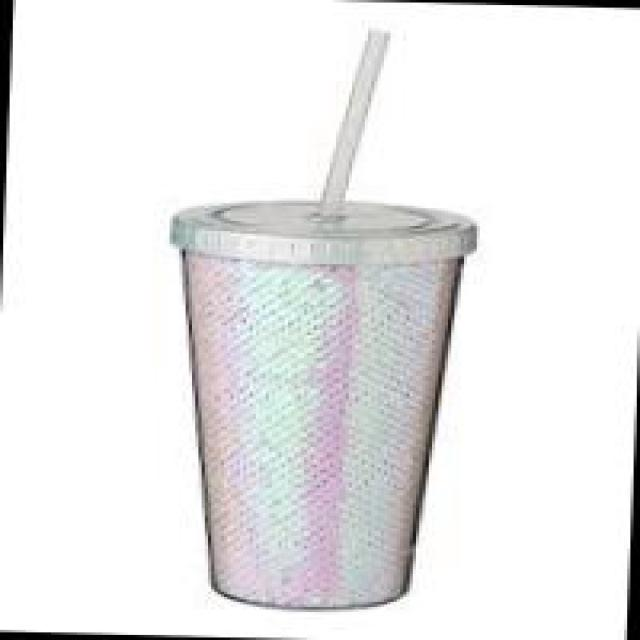bottle: (153, 23, 492, 617)
